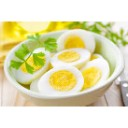begg: (40, 66, 84, 92), (59, 30, 94, 52)
